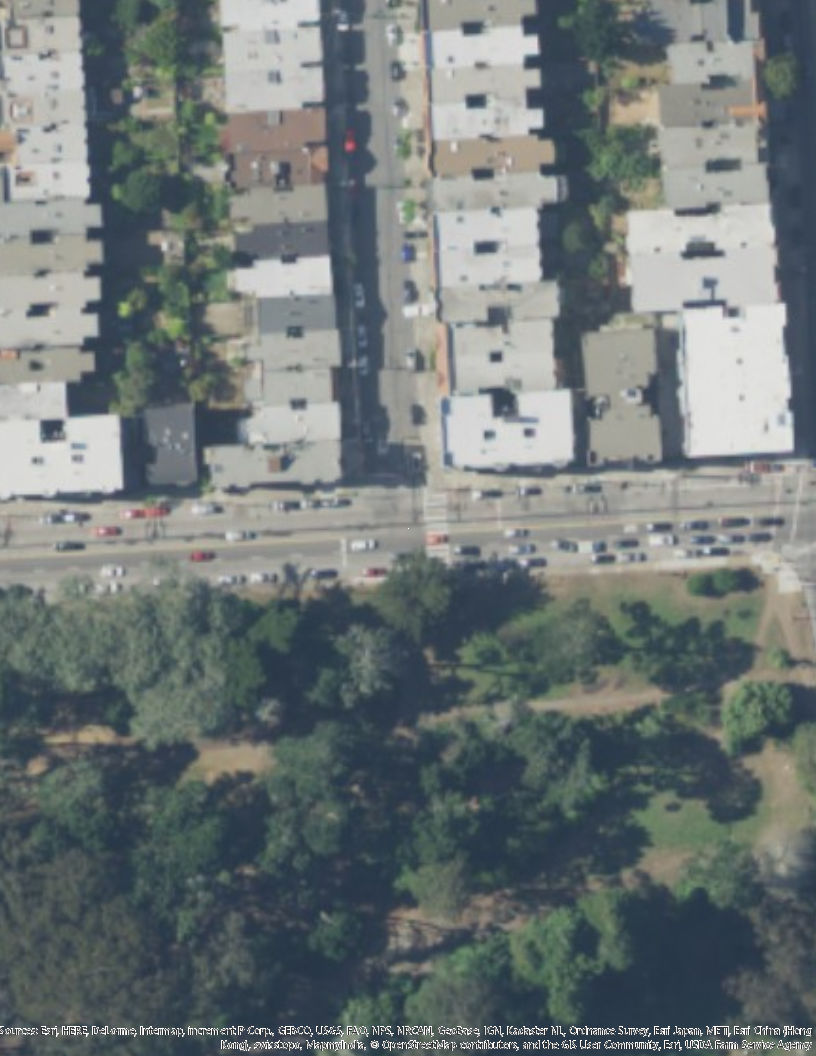zebracross: (422, 486, 452, 564)
